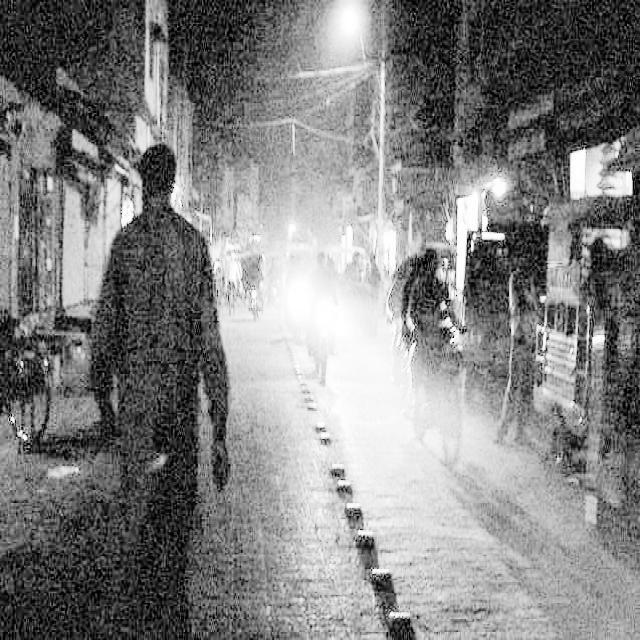Motorcycle: (383, 315, 475, 478), (293, 282, 373, 390)
Person: (91, 143, 236, 485), (494, 250, 539, 440), (410, 212, 449, 336), (353, 218, 386, 316), (305, 244, 341, 320), (219, 245, 245, 319)
